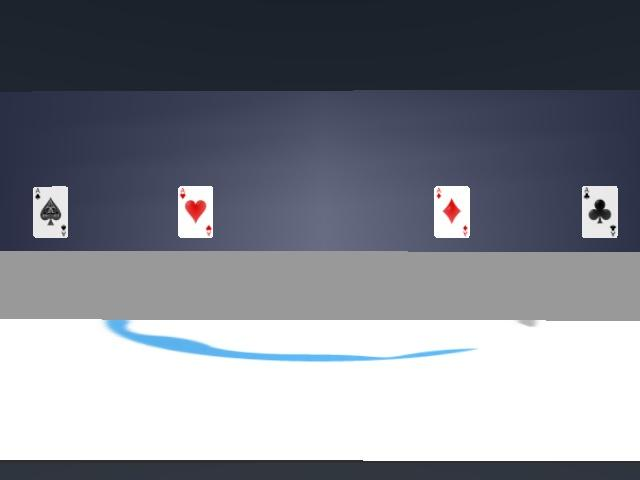diamond: (434, 186, 469, 237)
heart: (178, 186, 212, 237)
spade: (582, 186, 618, 237), (33, 186, 68, 237)
